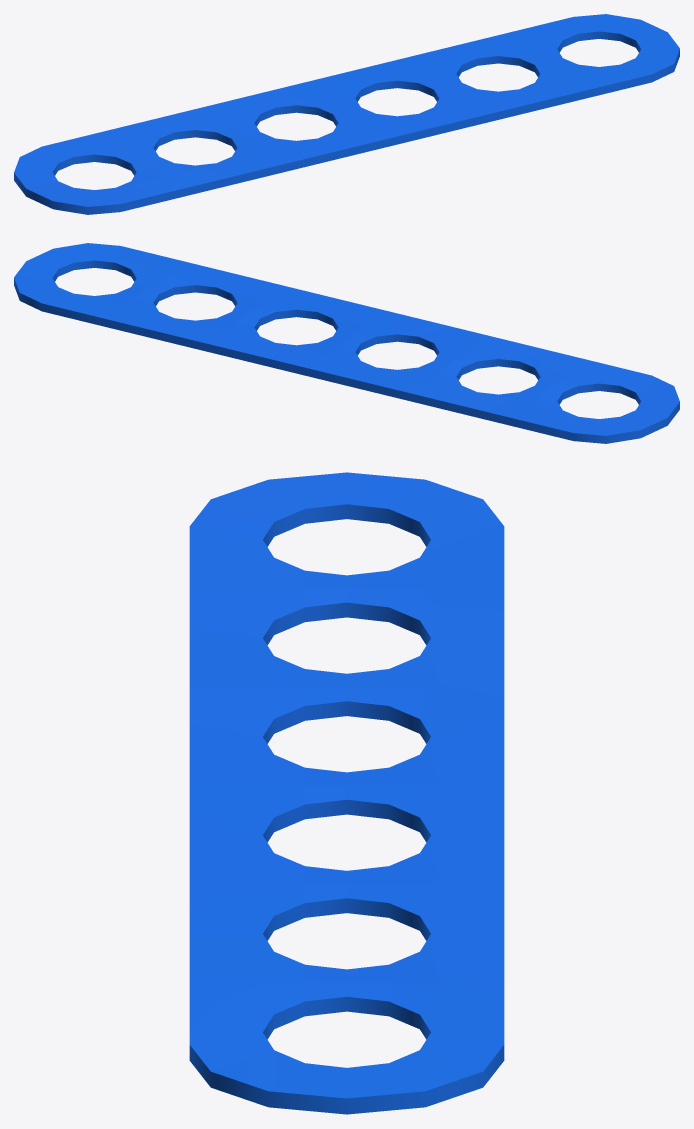
File: SixLongBlue.fbx
The picture shows the model from 3 angles, top to bottom: view 1: azimuth 30°, elevation 25°; view 2: azimuth 150°, elevation 25°; view 3: azimuth 270°, elevation 25°; orthographic projection. The views are drawn at different scales.
Parts seen in each view (by area): view 1: Blue6; view 2: Blue6; view 3: Blue6.
Part boxes in pixels (x1=…): Blue6: x1=14, y1=14, x2=679, y2=214; Blue6: x1=14, y1=243, x2=679, y2=443; Blue6: x1=189, y1=472, x2=504, y2=1114.
Bounding box in the file's own units: 16.25 × 0.1942 × 3.45.
